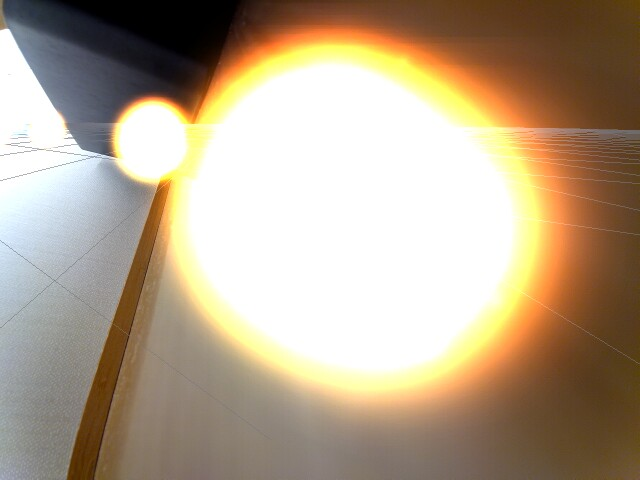firebig: (193, 1, 567, 407)
